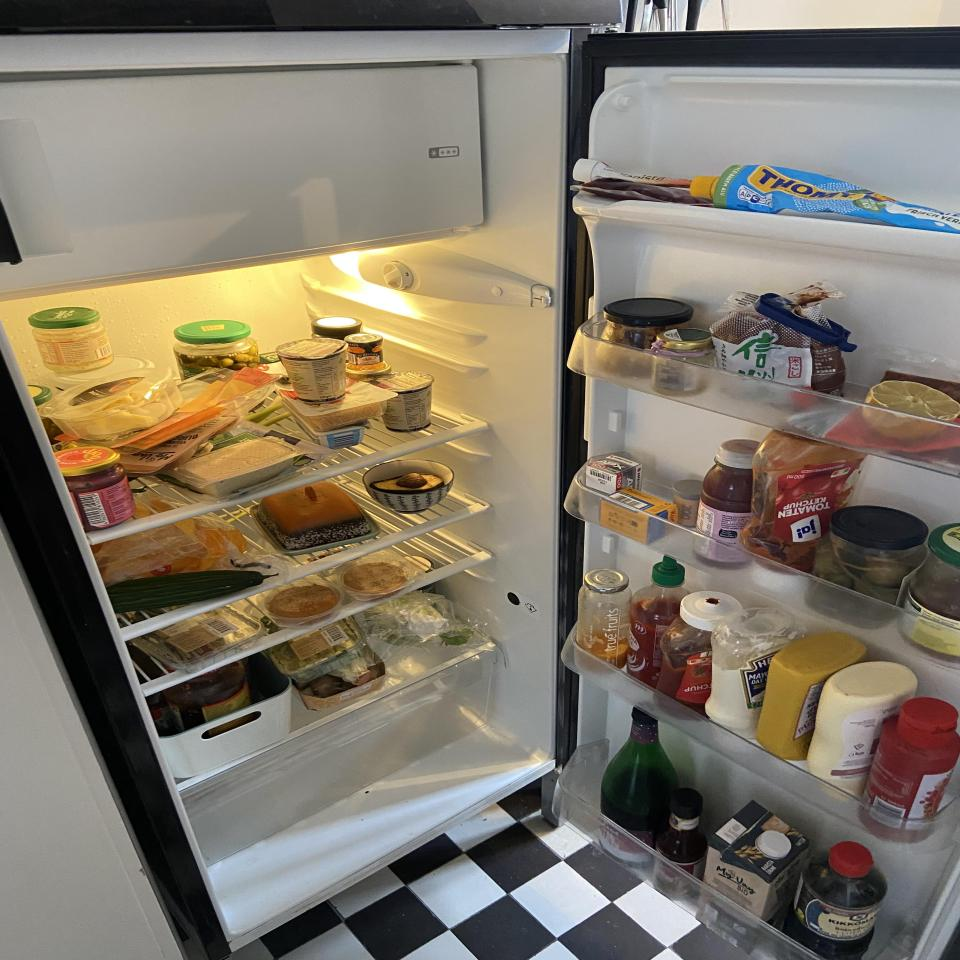Aguacate: (369, 472, 446, 495)
Lechuga/Endivia: (360, 591, 482, 648)
Limón: (860, 380, 960, 444)
Pepino: (104, 571, 280, 614)
